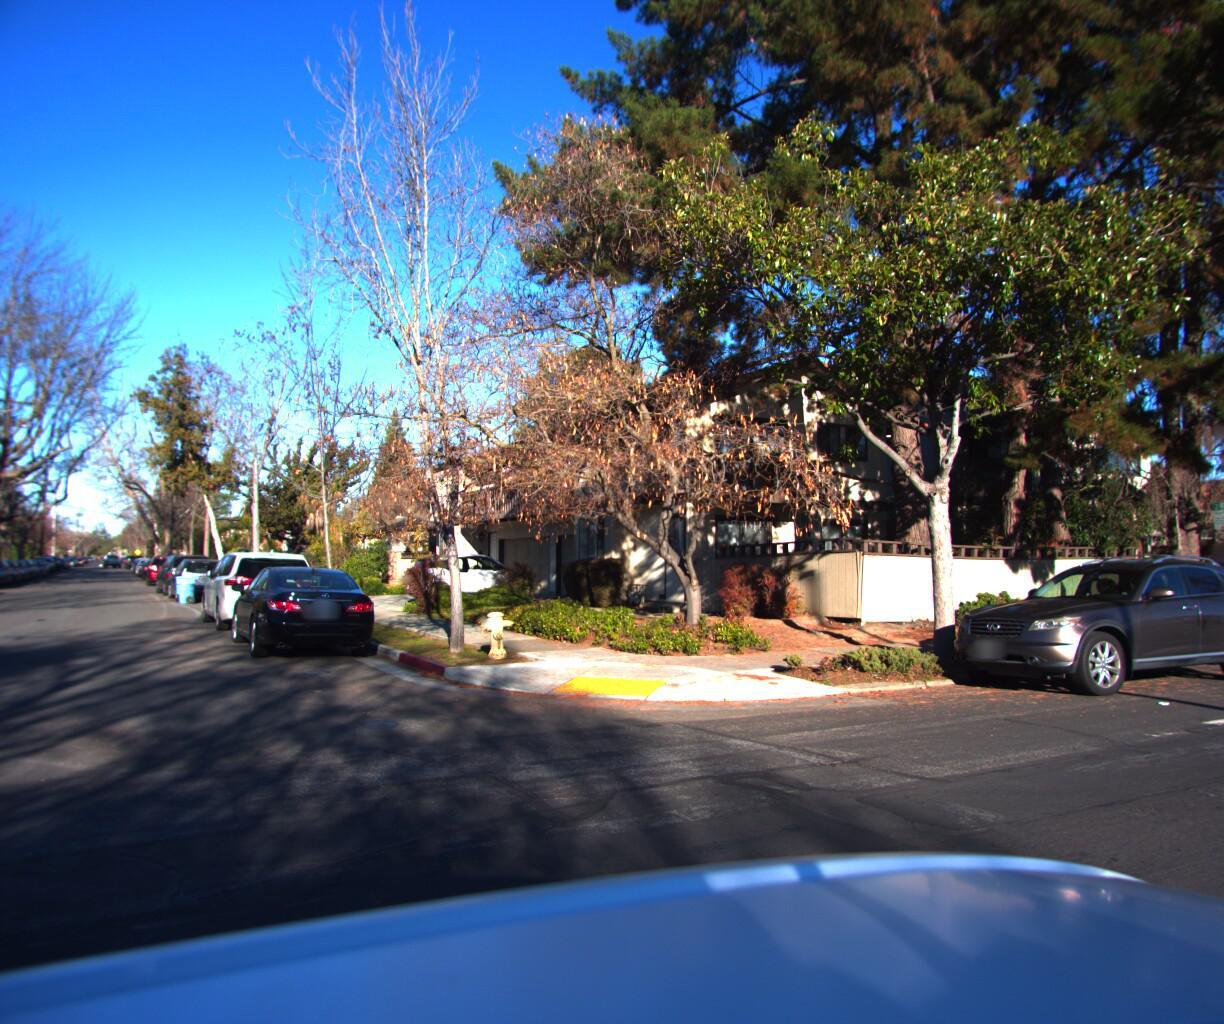car: (924, 548, 1224, 698), (225, 564, 389, 674), (198, 548, 327, 648), (401, 556, 537, 608), (166, 561, 235, 609), (151, 557, 222, 602), (144, 559, 183, 592), (0, 565, 4, 596)
